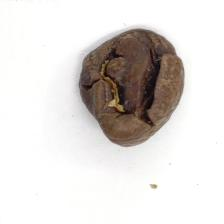NG: (127, 28, 170, 129), (82, 40, 127, 121)
